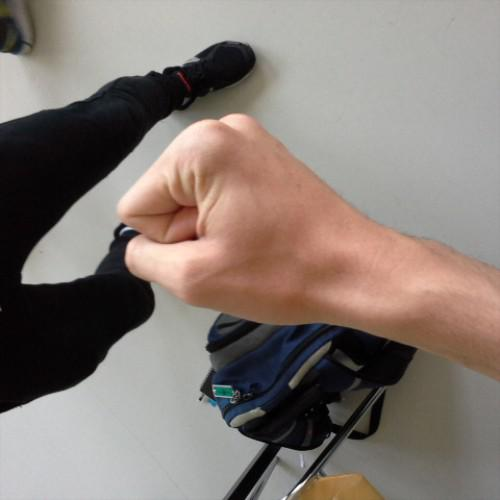rock: (110, 108, 376, 331)
